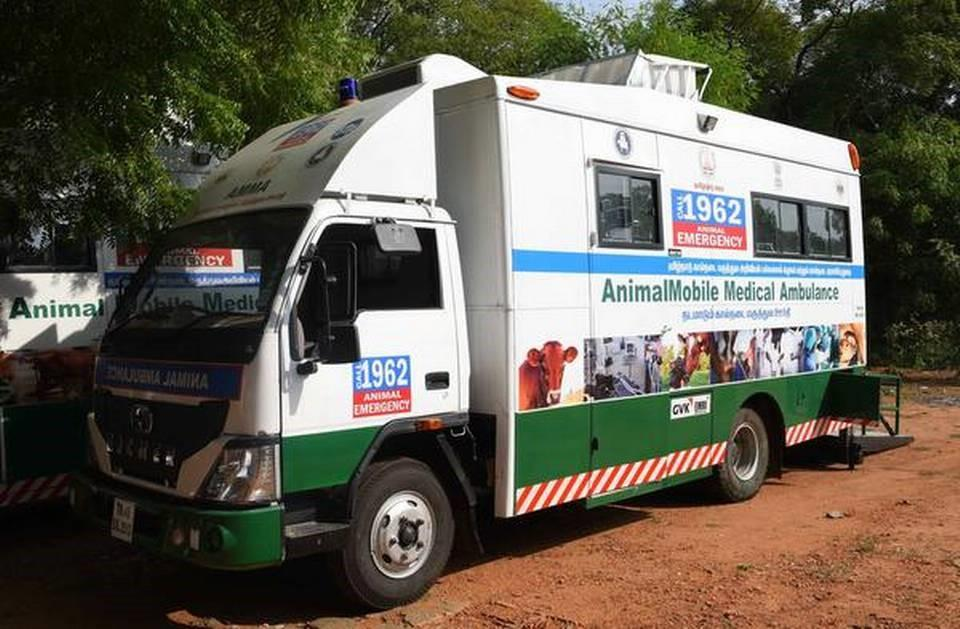ambulance: (80, 62, 931, 584)
